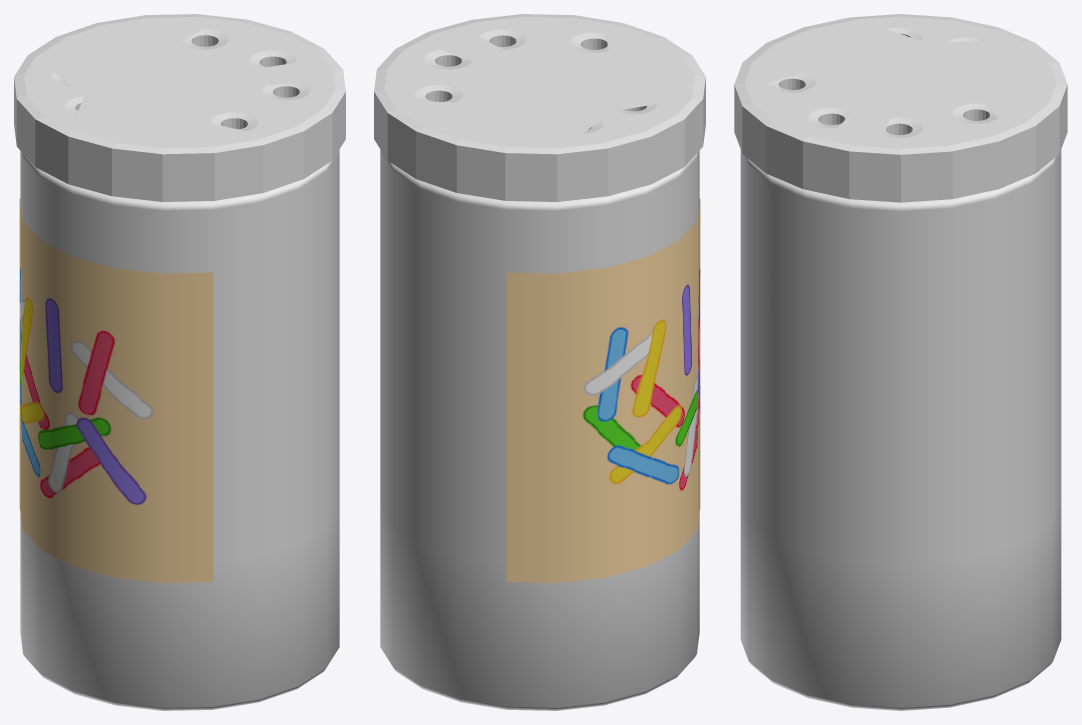
Rendered from sprinkles01.fbx.
3 renders of one model, left to right at view 1: azimuth 30°, elevation 25°; view 2: azimuth 150°, elevation 25°; view 3: azimuth 270°, elevation 25°, orthographic.
Parts seen in each view (by area): view 1: sprinkles01; view 2: sprinkles01; view 3: sprinkles01.
Part boxes in pixels (<box>): sprinkles01: <box>14,14,345,710</box>; sprinkles01: <box>374,14,705,710</box>; sprinkles01: <box>734,14,1067,710</box>.
Size of the model in its own units: 55.64 by 104 by 55.64.
